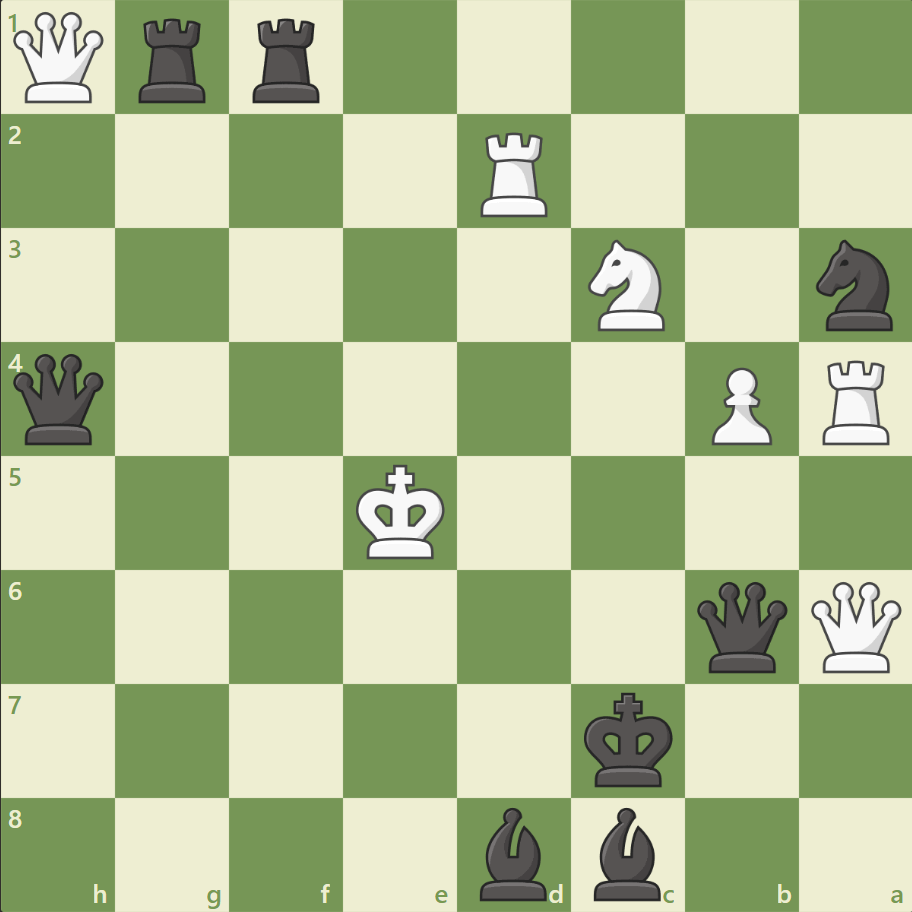K: (351, 458, 451, 566)
N: (579, 234, 676, 337)
P: (701, 359, 776, 450)
Q: (805, 576, 904, 676), (10, 9, 109, 108)
R: (814, 352, 897, 449), (473, 125, 556, 222)
b: (585, 801, 669, 904), (471, 801, 555, 904)
k: (579, 685, 679, 793)
n: (806, 234, 903, 337)
q: (691, 576, 790, 676), (10, 349, 109, 449)
r: (246, 12, 329, 109), (133, 12, 215, 109)
